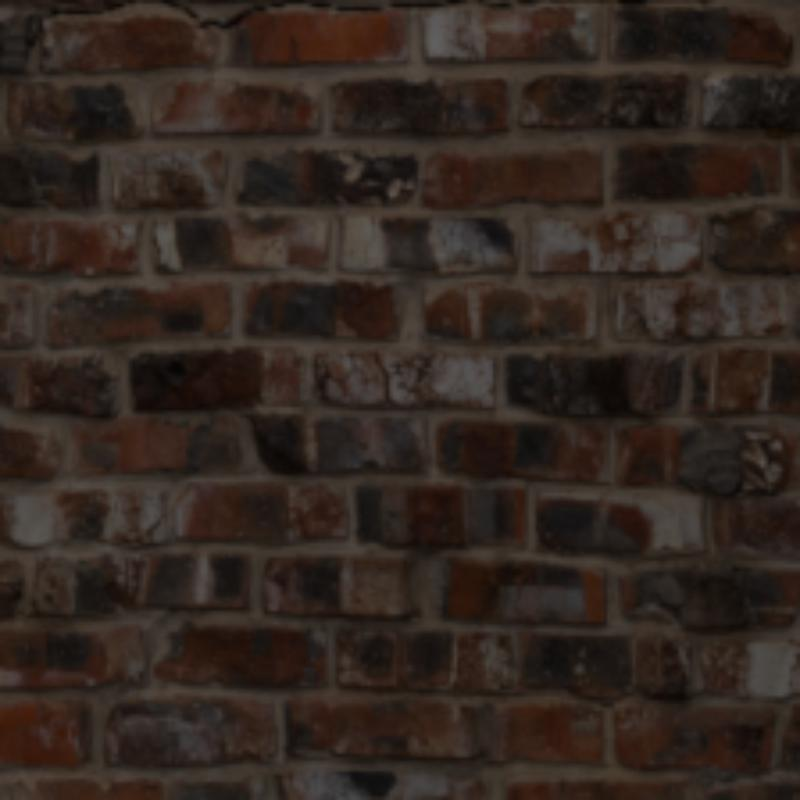crack: (164, 0, 285, 25), (371, 350, 396, 404), (290, 1, 374, 11), (143, 518, 164, 543), (25, 18, 39, 46), (479, 0, 532, 7), (96, 0, 125, 11), (395, 0, 479, 3), (39, 11, 50, 18)
